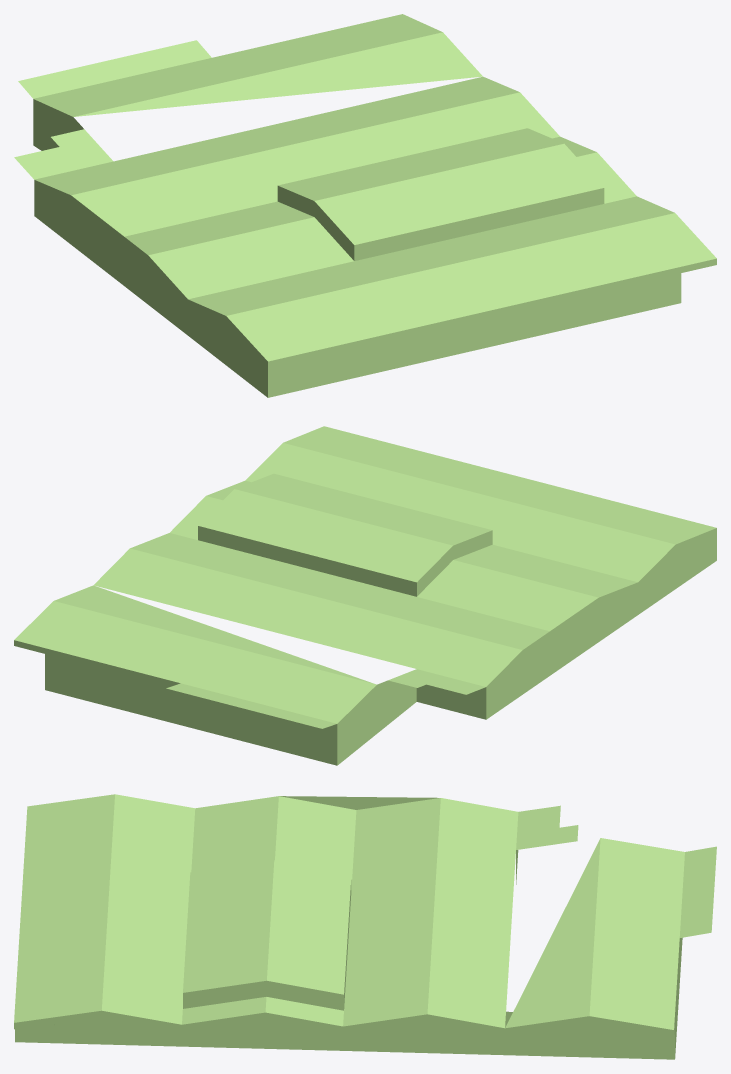
The model's file is factory.2f776448.glb.
3 views of the same model, one above another, from view 1: azimuth 30°, elevation 25°; view 2: azimuth 150°, elevation 25°; view 3: azimuth 270°, elevation 25° (orthographic). The views are drawn at different scales.
Visible parts, largest first — view 1: Composant_1_001; view 2: Composant_1_001; view 3: Composant_1_001.
Boxes of the visible parts, left/top/right/bottom form: Composant_1_001: left=14, top=14, right=716, bottom=397; Composant_1_001: left=14, top=426, right=716, bottom=765; Composant_1_001: left=14, top=794, right=716, bottom=1059.
Bounding box in the file's own units: 2591 × 409 × 3440.
